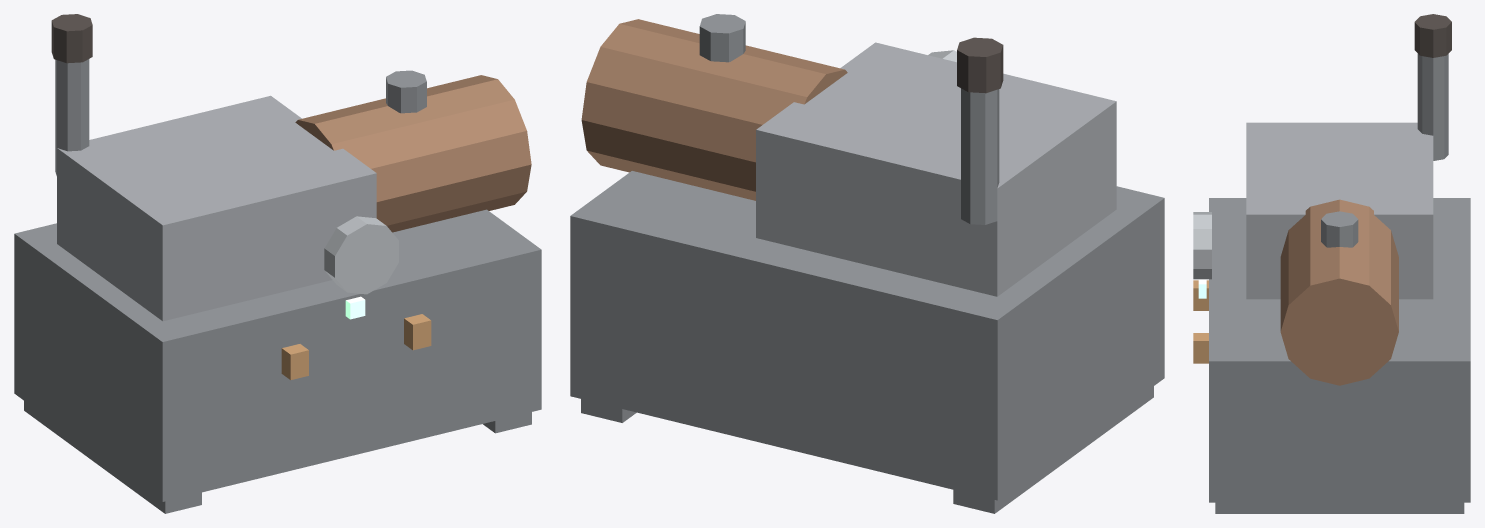
Rendered from generator.glb.
The picture shows the model from 3 angles, left to right: view 1: azimuth 30°, elevation 25°; view 2: azimuth 150°, elevation 25°; view 3: azimuth 270°, elevation 25°; orthographic projection. The views are drawn at different scales.
Visible parts, largest first — view 1: generator; view 2: generator; view 3: generator.
Part boxes in pixels (x1,y1,x2,y2): generator: (14,14,541,513); generator: (570,14,1164,513); generator: (1193,14,1470,513).
Size of the model in its own units: 1.34 by 1.23 by 0.89.
